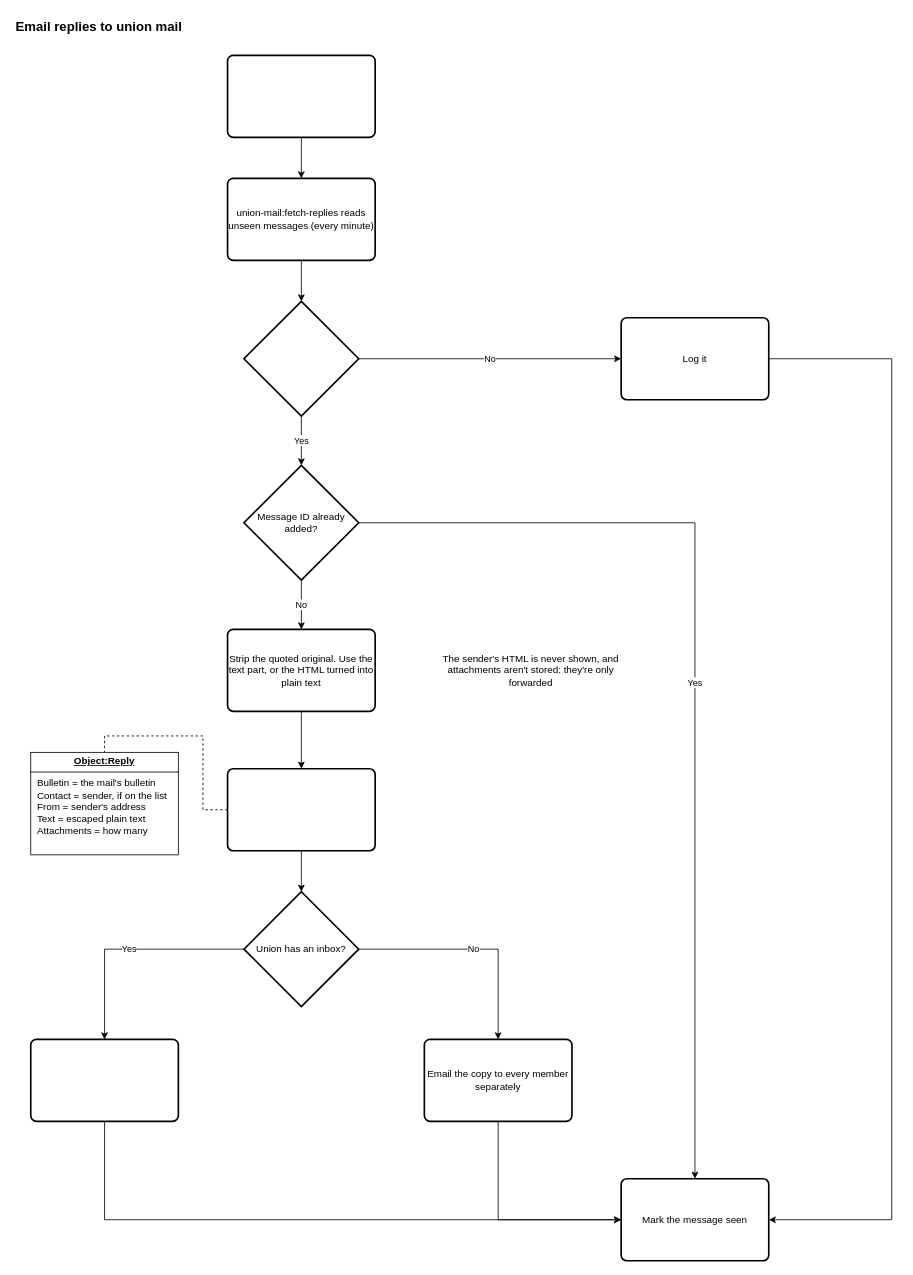
Some shapes in this 913 by 1275 pixel diagram are drawn without their labels. Each missing label, with the centre of its shape:
"Add it to the bulletin's thread as an email reply" goes at (x=301, y=809).
"Forward a full copy with attachments to the union's inbox" goes at (x=104, y=1080).
"Landlord replies to union mail, to replies+token@…" goes at (x=301, y=96).
"Sent to the token of a sent mail?" goes at (x=301, y=358).
